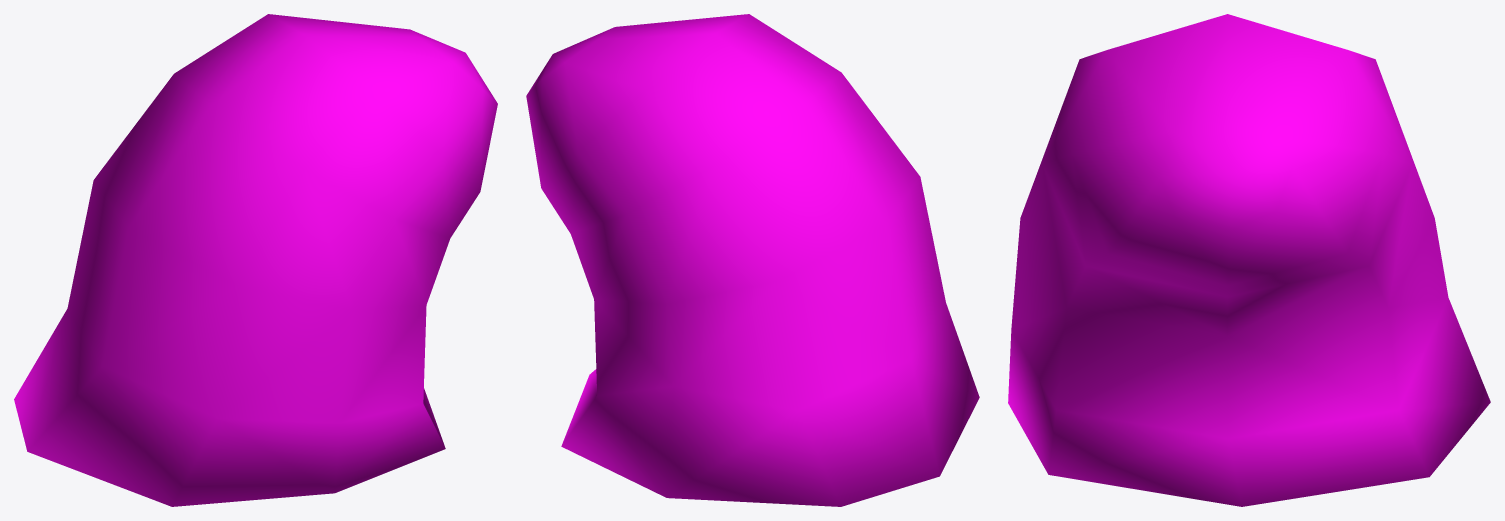
File: tentacle_meshCollider.fbx
3 views of the same model, side by side, from view 1: azimuth 30°, elevation 25°; view 2: azimuth 150°, elevation 25°; view 3: azimuth 270°, elevation 25° (orthographic). The views are drawn at different scales.
Parts seen in each view (by area): view 1: foods_tentacle_meshCollider; view 2: foods_tentacle_meshCollider; view 3: foods_tentacle_meshCollider.
Part boxes in pixels (<box>): foods_tentacle_meshCollider: <box>14,14,497,506</box>; foods_tentacle_meshCollider: <box>526,14,979,506</box>; foods_tentacle_meshCollider: <box>1008,14,1490,506</box>.
Bounding box in the file's own units: 14.11 × 11.68 × 12.02.
